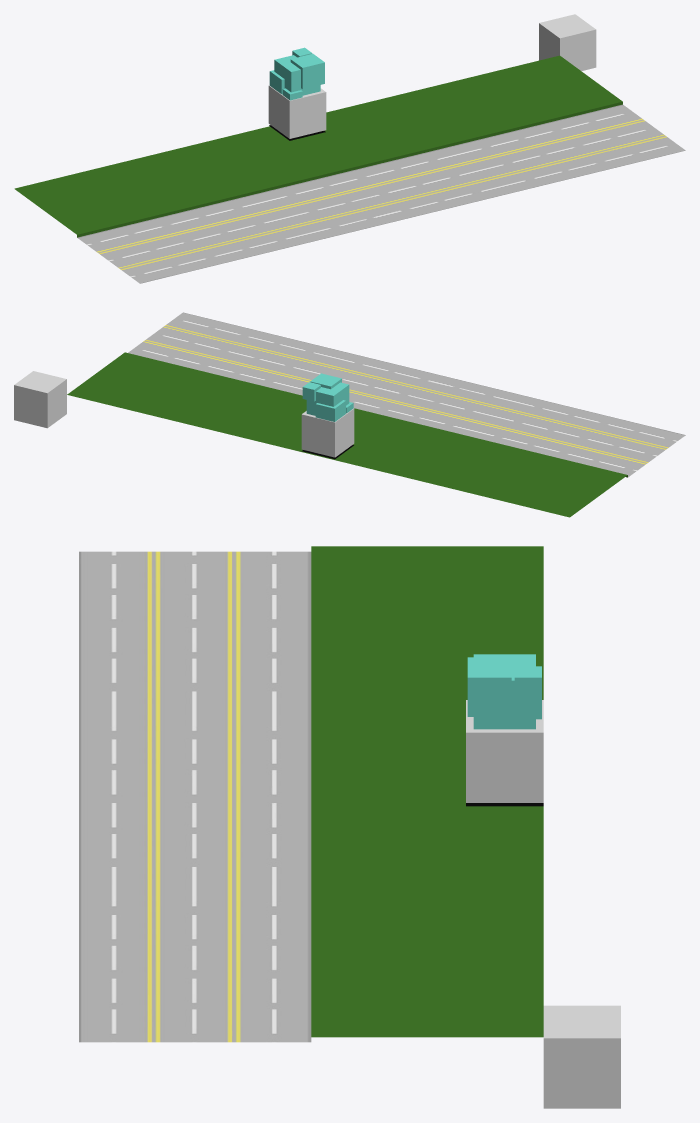
Rendered from cenario.glb.
The picture shows the model from 3 angles, top to bottom: view 1: azimuth 30°, elevation 25°; view 2: azimuth 150°, elevation 25°; view 3: azimuth 270°, elevation 25°; orthographic projection. The views are drawn at different scales.
Visible parts, largest first — view 1: cenario, rua3x3, Cube, personagem, tree_blocks; view 2: rua3x3, cenario, Cube, personagem, tree_blocks; view 3: rua3x3, cenario, Cube, personagem, tree_blocks.
Part boxes in pixels (x1,y1,x2,y2): cenario: [14, 55, 622, 237]; rua3x3: [77, 104, 685, 283]; Cube: [539, 14, 596, 70]; personagem: [268, 85, 326, 138]; tree_blocks: [269, 47, 324, 100]; rua3x3: [128, 312, 685, 477]; cenario: [67, 352, 627, 517]; Cube: [14, 371, 66, 428]; personagem: [301, 408, 354, 457]; tree_blocks: [302, 373, 353, 421]; rua3x3: [79, 551, 311, 1042]; cenario: [311, 546, 543, 1037]; Cube: [543, 1005, 620, 1108]; personagem: [466, 700, 543, 802]; tree_blocks: [467, 654, 541, 729].
Size of the model in its own units: 32 by 4.8 by 14.
4 materials, 2 textured.
